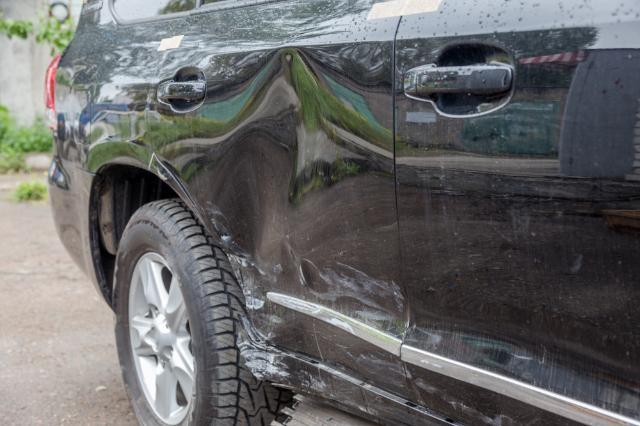dent: (206, 48, 333, 298)
scratch: (292, 257, 411, 337)
